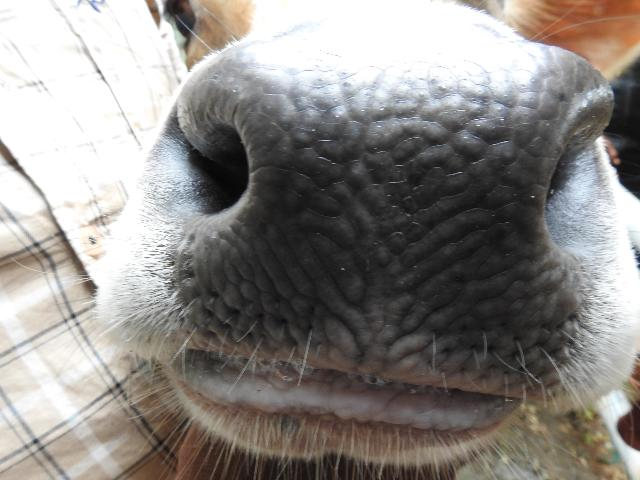Muzzle: (274, 57, 532, 393)
